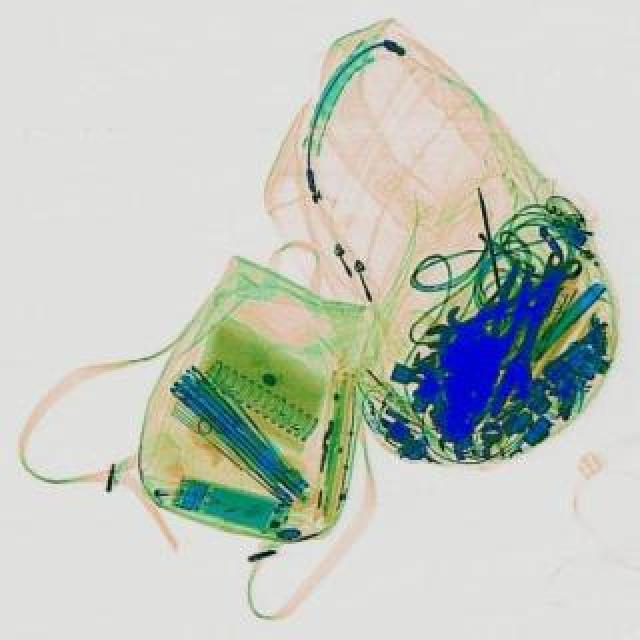scissors: (418, 252, 586, 352), (486, 246, 572, 418)
